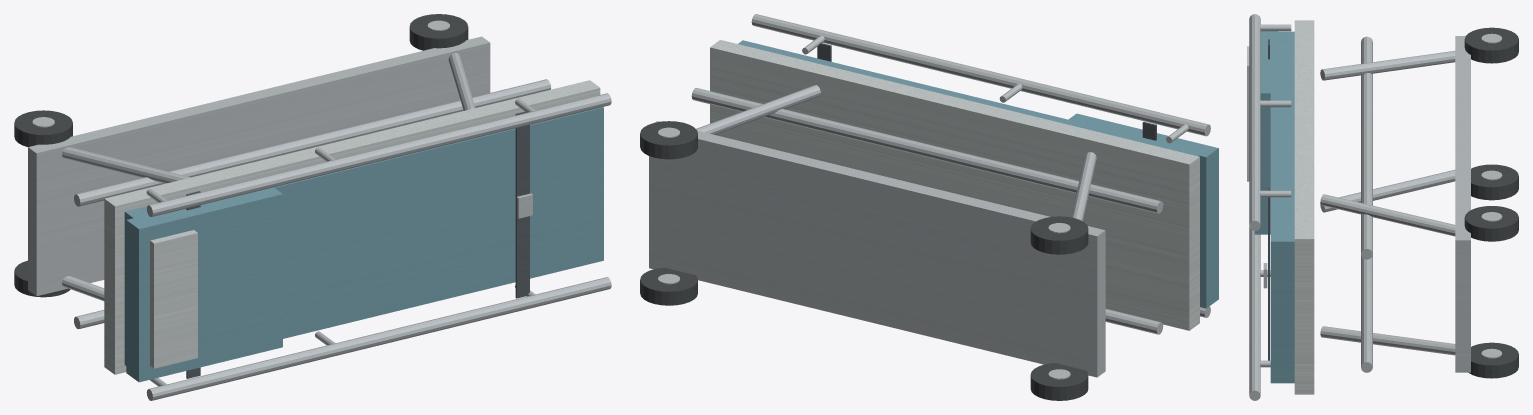
Rendered from PZ_Detachable_Ambulance_Stretcher.glb.
3 views of the same model, side by side, from view 1: azimuth 30°, elevation 25°; view 2: azimuth 150°, elevation 25°; view 3: azimuth 270°, elevation 25° (orthographic). The views are drawn at different scales.
Visible parts, largest first — view 1: RENDER_EMS_DETACHABLE_STRETCHER_STRETCHER_BLUE_CUSHION, RENDER_EMS_DETACHABLE_STRETCHER_STRETCHER_LOWER_CHASSIS, RENDER_EMS_DETACHABLE_STRETCHER_STRETCHER_BACK_REST_FOLDING, RENDER_EMS_DETACHABLE_STRETCHER_STRETCHER_PATIENT_PLATFORM, RENDER_EMS_DETACHABLE_STRETCHER_STRETCHER_SIDE_HANDLE_-1, RENDER_EMS_DETACHABLE_STRETCHER_STRETCHER_SIDE_HANDLE_1, RENDER_EMS_DETACHABLE_STRETCHER_STRETCHER_HEAD_PILLOW, RENDER_EMS_DETACHABLE_STRETCHER_STRETCHER_FRAME_LEFT, RENDER_EMS_DETACHABLE_STRETCHER_STRETCHER_RESTRAINT_STRAP_01, RENDER_EMS_DETACHABLE_STRETCHER_STRETCHER_CASTER_1_1, RENDER_EMS_DETACHABLE_STRETCHER_STRETCHER_CASTER_1_0, RENDER_EMS_DETACHABLE_STRETCHER_STRETCHER_LEG_1_0 (+3 smaller); view 2: RENDER_EMS_DETACHABLE_STRETCHER_STRETCHER_LOWER_CHASSIS, RENDER_EMS_DETACHABLE_STRETCHER_STRETCHER_PATIENT_PLATFORM, RENDER_EMS_DETACHABLE_STRETCHER_STRETCHER_FRAME_LEFT, RENDER_EMS_DETACHABLE_STRETCHER_STRETCHER_SIDE_HANDLE_1, RENDER_EMS_DETACHABLE_STRETCHER_STRETCHER_BACK_REST_FOLDING, RENDER_EMS_DETACHABLE_STRETCHER_STRETCHER_BLUE_CUSHION, RENDER_EMS_DETACHABLE_STRETCHER_STRETCHER_CASTER_1_0, RENDER_EMS_DETACHABLE_STRETCHER_STRETCHER_CASTER_1_1, RENDER_EMS_DETACHABLE_STRETCHER_STRETCHER_CASTER_-1_0, RENDER_EMS_DETACHABLE_STRETCHER_STRETCHER_CASTER_-1_1, RENDER_EMS_DETACHABLE_STRETCHER_STRETCHER_LEG_1_1, RENDER_EMS_DETACHABLE_STRETCHER_STRETCHER_LEG_1_0 (+1 smaller); view 3: RENDER_EMS_DETACHABLE_STRETCHER_STRETCHER_BLUE_CUSHION, RENDER_EMS_DETACHABLE_STRETCHER_STRETCHER_PATIENT_PLATFORM, RENDER_EMS_DETACHABLE_STRETCHER_STRETCHER_LOWER_CHASSIS, RENDER_EMS_DETACHABLE_STRETCHER_STRETCHER_SIDE_HANDLE_1, RENDER_EMS_DETACHABLE_STRETCHER_STRETCHER_FRAME_LEFT, RENDER_EMS_DETACHABLE_STRETCHER_STRETCHER_BACK_REST_FOLDING, RENDER_EMS_DETACHABLE_STRETCHER_STRETCHER_SIDE_HANDLE_-1, RENDER_EMS_DETACHABLE_STRETCHER_STRETCHER_LEG_1_1, RENDER_EMS_DETACHABLE_STRETCHER_STRETCHER_LEG_1_0, RENDER_EMS_DETACHABLE_STRETCHER_STRETCHER_CASTER_1_0, RENDER_EMS_DETACHABLE_STRETCHER_STRETCHER_CASTER_1_1, RENDER_EMS_DETACHABLE_STRETCHER_STRETCHER_LEG_-1_1 (+9 smaller).
Part boxes in pixels (x1,y1,x2,y2): RENDER_EMS_DETACHABLE_STRETCHER_STRETCHER_BLUE_CUSHION: (124, 107, 603, 365); RENDER_EMS_DETACHABLE_STRETCHER_STRETCHER_LOWER_CHASSIS: (28, 36, 490, 296); RENDER_EMS_DETACHABLE_STRETCHER_STRETCHER_BACK_REST_FOLDING: (126, 187, 282, 382); RENDER_EMS_DETACHABLE_STRETCHER_STRETCHER_PATIENT_PLATFORM: (104, 80, 600, 374); RENDER_EMS_DETACHABLE_STRETCHER_STRETCHER_SIDE_HANDLE_-1: (146, 277, 611, 400); RENDER_EMS_DETACHABLE_STRETCHER_STRETCHER_SIDE_HANDLE_1: (147, 93, 611, 216); RENDER_EMS_DETACHABLE_STRETCHER_STRETCHER_HEAD_PILLOW: (150, 230, 197, 368); RENDER_EMS_DETACHABLE_STRETCHER_STRETCHER_FRAME_LEFT: (74, 79, 551, 206); RENDER_EMS_DETACHABLE_STRETCHER_STRETCHER_RESTRAINT_STRAP_01: (515, 111, 529, 298); RENDER_EMS_DETACHABLE_STRETCHER_STRETCHER_CASTER_1_1: (409, 14, 468, 50); RENDER_EMS_DETACHABLE_STRETCHER_STRETCHER_CASTER_1_0: (14, 110, 72, 146); RENDER_EMS_DETACHABLE_STRETCHER_STRETCHER_LEG_1_0: (62, 147, 190, 183); RENDER_EMS_DETACHABLE_STRETCHER_STRETCHER_LOWER_CHASSIS: (649, 121, 1105, 377); RENDER_EMS_DETACHABLE_STRETCHER_STRETCHER_PATIENT_PLATFORM: (710, 40, 1199, 330); RENDER_EMS_DETACHABLE_STRETCHER_STRETCHER_FRAME_LEFT: (691, 88, 1163, 213); RENDER_EMS_DETACHABLE_STRETCHER_STRETCHER_SIDE_HANDLE_1: (751, 14, 1210, 136); RENDER_EMS_DETACHABLE_STRETCHER_STRETCHER_BACK_REST_FOLDING: (1068, 113, 1218, 308); RENDER_EMS_DETACHABLE_STRETCHER_STRETCHER_BLUE_CUSHION: (738, 40, 1202, 156); RENDER_EMS_DETACHABLE_STRETCHER_STRETCHER_CASTER_1_0: (1030, 216, 1088, 254); RENDER_EMS_DETACHABLE_STRETCHER_STRETCHER_CASTER_1_1: (640, 121, 697, 159); RENDER_EMS_DETACHABLE_STRETCHER_STRETCHER_CASTER_-1_0: (1030, 363, 1088, 400); RENDER_EMS_DETACHABLE_STRETCHER_STRETCHER_CASTER_-1_1: (640, 267, 697, 305); RENDER_EMS_DETACHABLE_STRETCHER_STRETCHER_LEG_1_1: (696, 85, 820, 134); RENDER_EMS_DETACHABLE_STRETCHER_STRETCHER_LEG_1_0: (1071, 152, 1096, 220); RENDER_EMS_DETACHABLE_STRETCHER_STRETCHER_BLUE_CUSHION: (1270, 31, 1294, 383); RENDER_EMS_DETACHABLE_STRETCHER_STRETCHER_PATIENT_PLATFORM: (1294, 20, 1314, 394); RENDER_EMS_DETACHABLE_STRETCHER_STRETCHER_LOWER_CHASSIS: (1455, 36, 1470, 372); RENDER_EMS_DETACHABLE_STRETCHER_STRETCHER_SIDE_HANDLE_1: (1249, 14, 1260, 230); RENDER_EMS_DETACHABLE_STRETCHER_STRETCHER_FRAME_LEFT: (1361, 36, 1372, 259); RENDER_EMS_DETACHABLE_STRETCHER_STRETCHER_BACK_REST_FOLDING: (1254, 31, 1278, 234); RENDER_EMS_DETACHABLE_STRETCHER_STRETCHER_SIDE_HANDLE_-1: (1249, 227, 1260, 400); RENDER_EMS_DETACHABLE_STRETCHER_STRETCHER_LEG_1_1: (1320, 194, 1455, 236); RENDER_EMS_DETACHABLE_STRETCHER_STRETCHER_LEG_1_0: (1320, 51, 1455, 80); RENDER_EMS_DETACHABLE_STRETCHER_STRETCHER_CASTER_1_0: (1464, 27, 1518, 63); RENDER_EMS_DETACHABLE_STRETCHER_STRETCHER_CASTER_1_1: (1464, 206, 1518, 241); RENDER_EMS_DETACHABLE_STRETCHER_STRETCHER_LEG_-1_1: (1320, 326, 1455, 355).
Size of the model in its own units: 1.99 by 0.764 by 1.04.
Materials: 5 (5 with a texture image).
